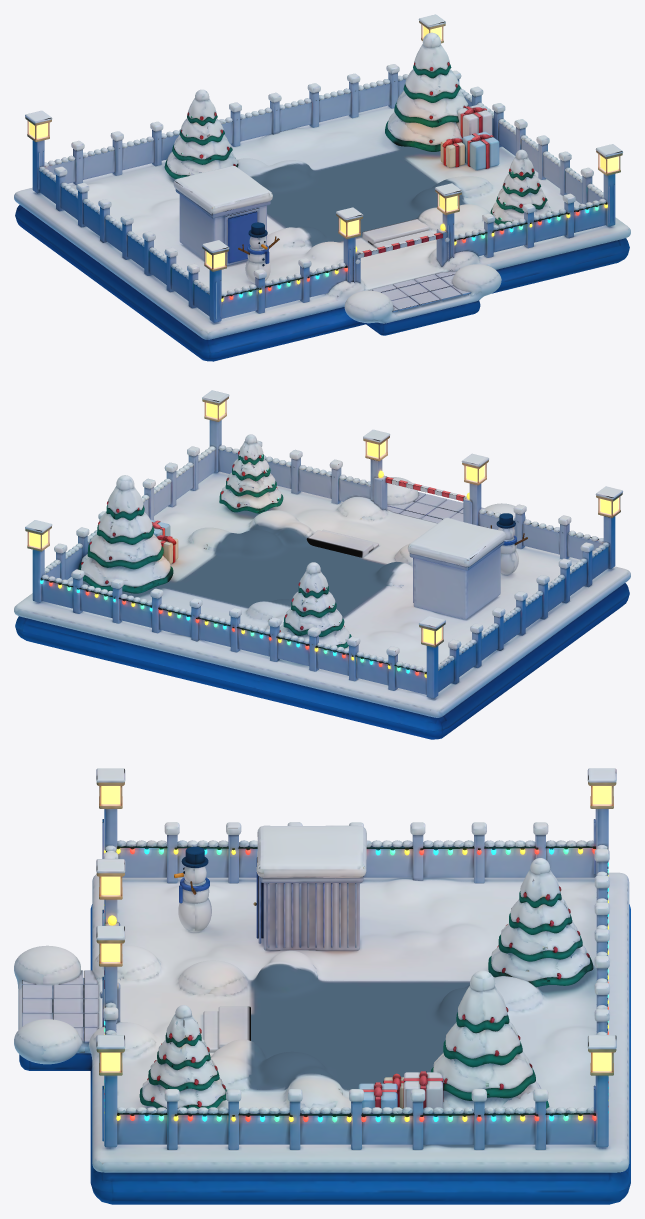
The model's file is winter-site.glb.
The picture shows the model from 3 angles, top to bottom: view 1: azimuth 30°, elevation 25°; view 2: azimuth 150°, elevation 25°; view 3: azimuth 270°, elevation 25°; orthographic projection. The views are drawn at different scales.
Parts seen in each view (by area): view 1: Baked_site, Site • Lantern • warm source; view 2: Baked_site, Site • Lantern • warm source; view 3: Baked_site, Site • Lantern • warm source.
Part boxes in pixels (box(x1,y1,x2,y2)): Baked_site: box(14, 14, 630, 361); Site • Lantern • warm source: box(29, 26, 618, 268); Baked_site: box(14, 390, 630, 739); Site • Lantern • warm source: box(29, 401, 618, 643); Baked_site: box(14, 768, 630, 1204); Site • Lantern • warm source: box(101, 786, 611, 1071).
Bounding box in the file's own units: 9.6 × 3.03 × 8.56.
Materials: 6 (1 with a texture image).
